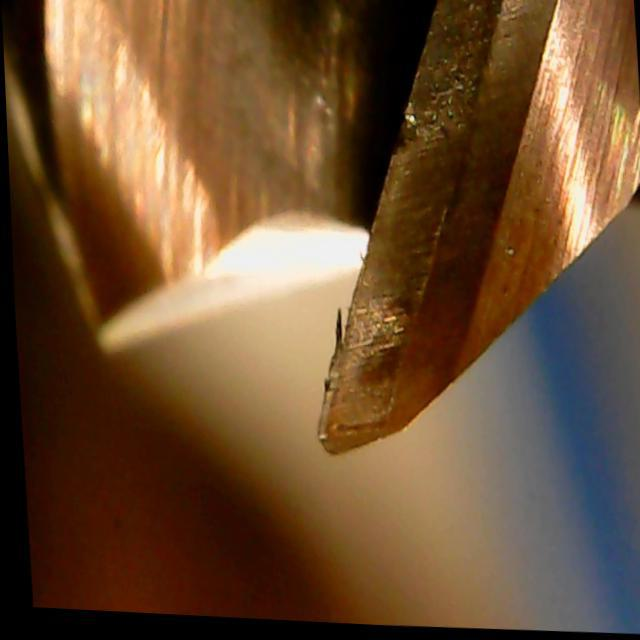Tool-wear-class-1: (275, 241, 493, 474)
